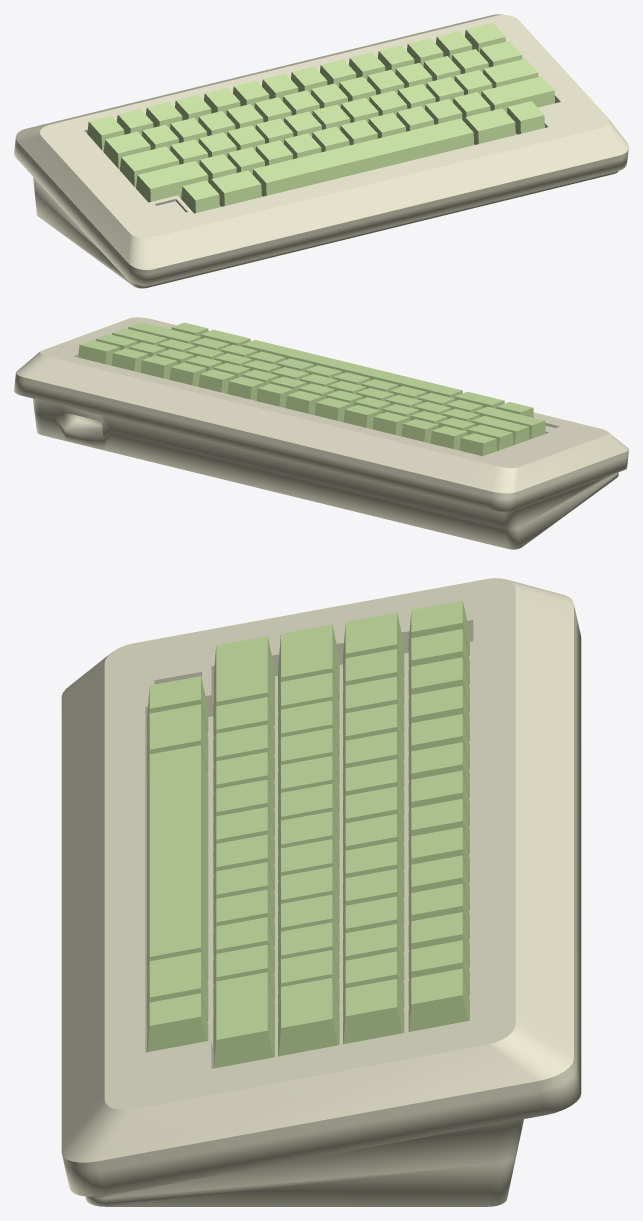
File: keyboard.glb
The picture shows the model from 3 angles, top to bottom: view 1: azimuth 30°, elevation 25°; view 2: azimuth 150°, elevation 25°; view 3: azimuth 270°, elevation 25°; orthographic projection. The views are drawn at different scales.
Visible parts, largest first — view 1: Keys, Plane A, Keyboard; view 2: Keyboard, Plane A, Keys; view 3: Plane A, Keys, Keyboard.
Boxes of the visible parts, bbox=[...] form: Keys: bbox=[87, 23, 554, 213]; Plane A: bbox=[15, 14, 628, 274]; Keyboard: bbox=[14, 142, 628, 288]; Keyboard: bbox=[14, 378, 628, 549]; Plane A: bbox=[15, 317, 628, 498]; Keys: bbox=[78, 322, 545, 456]; Plane A: bbox=[61, 578, 575, 1172]; Keys: bbox=[147, 600, 469, 1068]; Keyboard: bbox=[64, 614, 581, 1206].
Size of the model in its own units: 3.75 by 0.6382 by 1.69.
